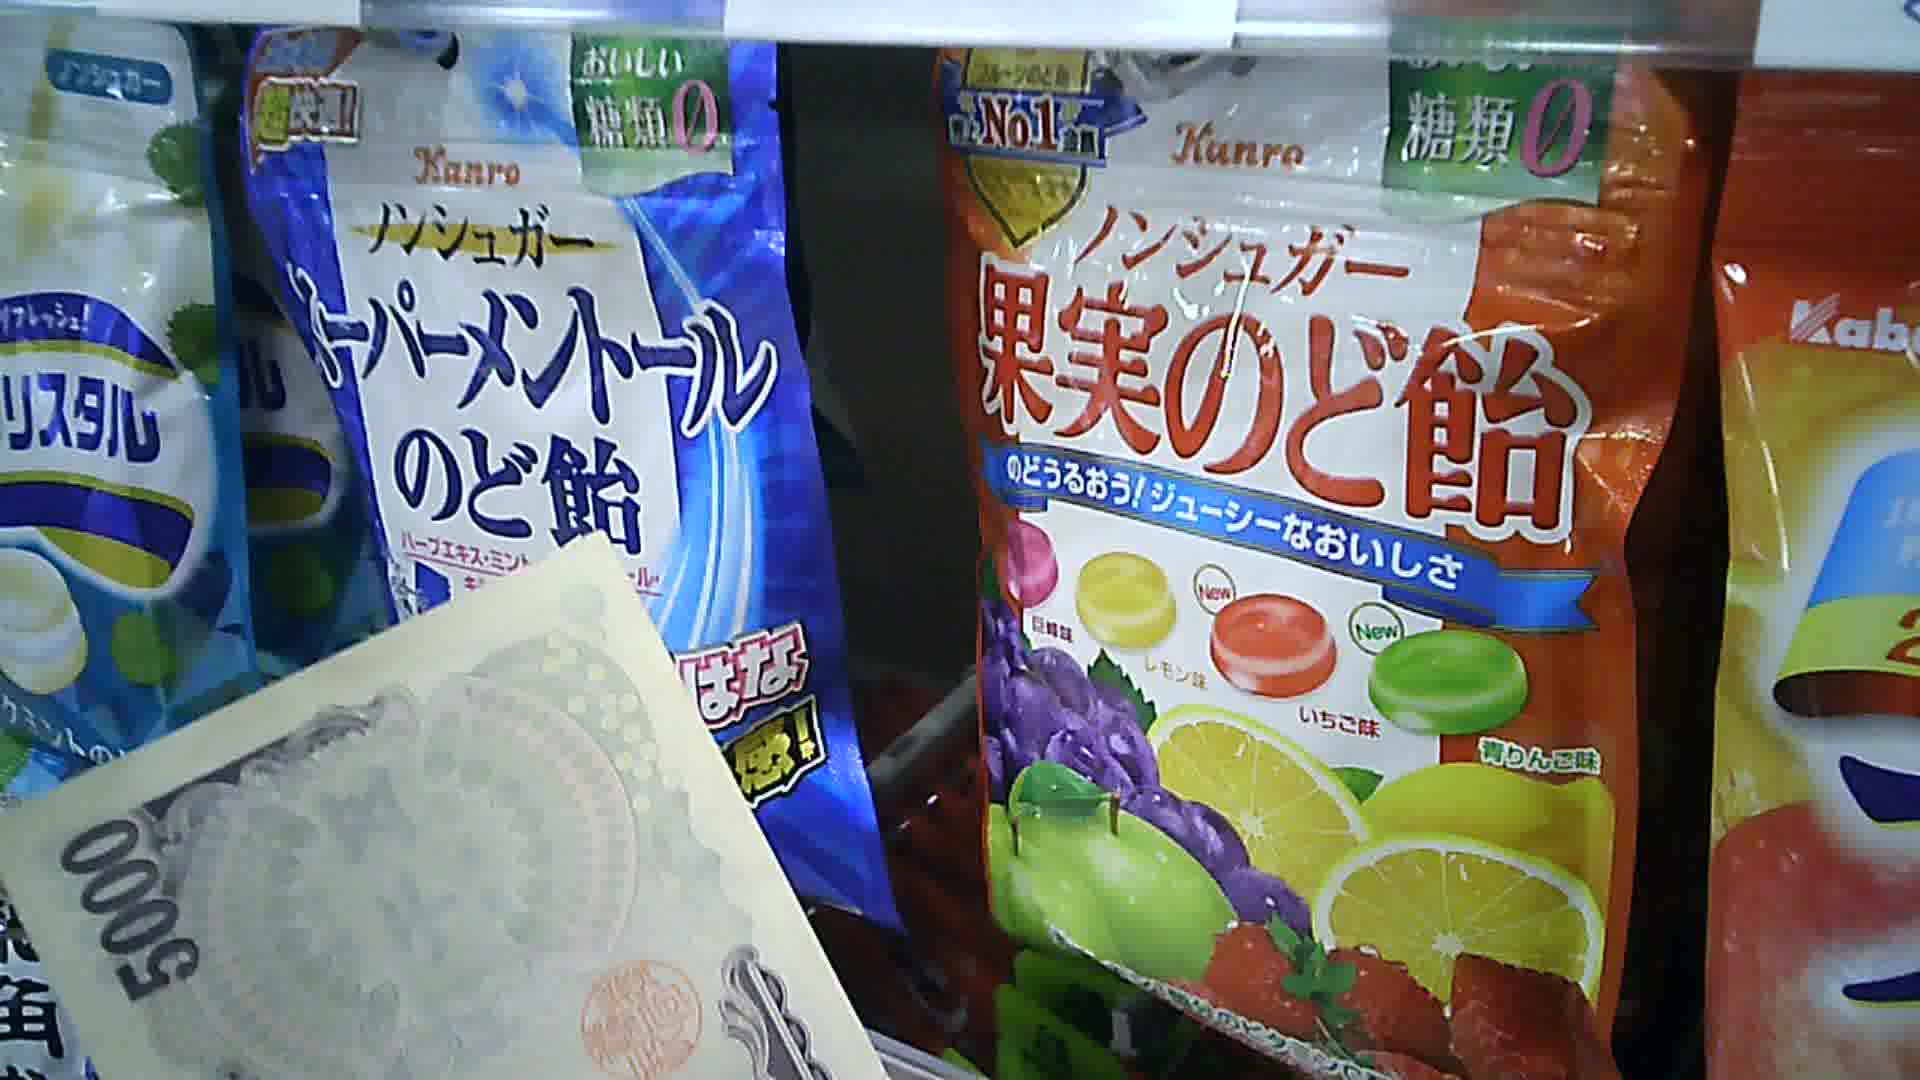5,000 Yen: (18, 533, 891, 1073)
